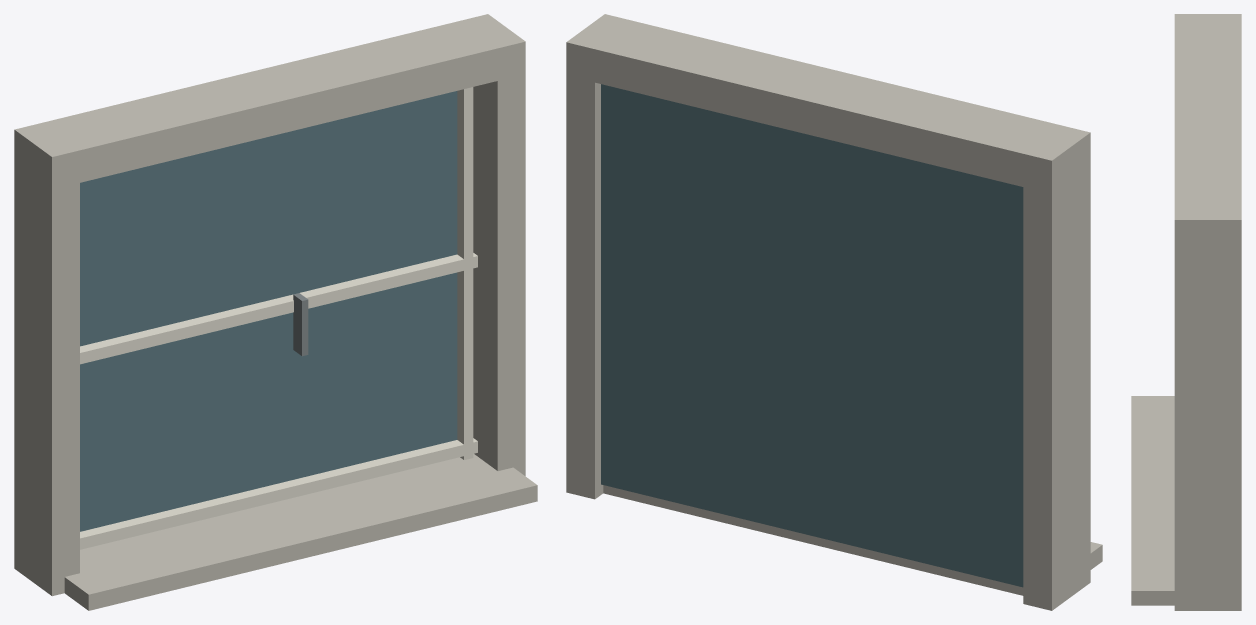
The picture shows the model from 3 angles, left to right: view 1: azimuth 30°, elevation 25°; view 2: azimuth 150°, elevation 25°; view 3: azimuth 270°, elevation 25°; orthographic projection. The views are drawn at different scales.
Parts seen in each view (by area): view 1: QH-A0035_V02_geometry; view 2: QH-A0035_V02_geometry; view 3: QH-A0035_V02_geometry.
Part boxes in pixels (left/top/right/bottom): QH-A0035_V02_geometry: left=14, top=14, right=537, bottom=610; QH-A0035_V02_geometry: left=566, top=14, right=1102, bottom=610; QH-A0035_V02_geometry: left=1131, top=14, right=1241, bottom=610.
Bounding box in the file's own units: 3.05 × 2.7 × 0.69.
